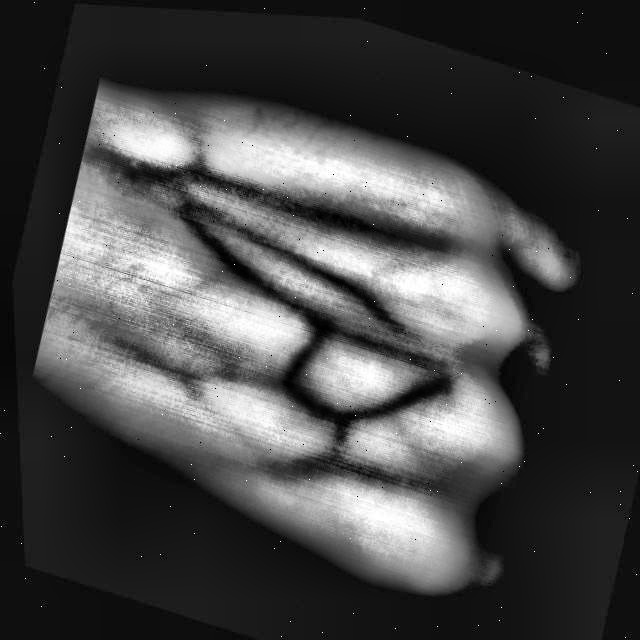Vein: (151, 194, 337, 340)
